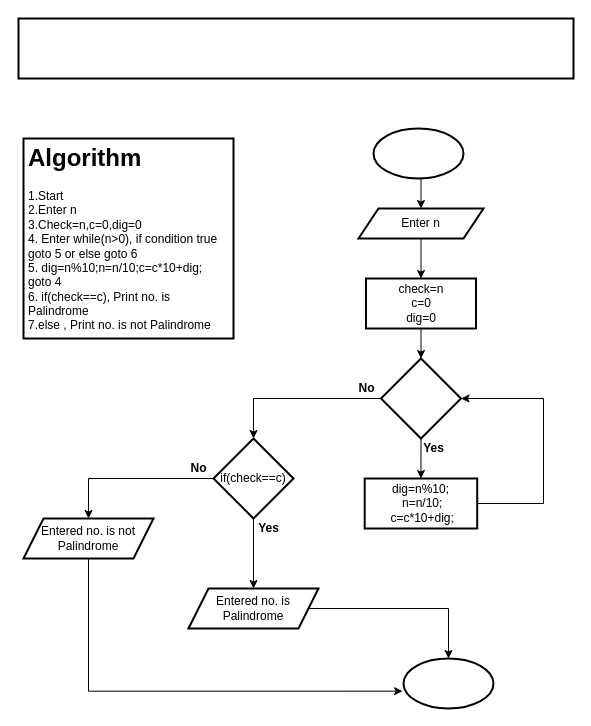
This 591x726 diagram has some shape labels left out. The shapes that lost their labels are listed below. From the top down, each one's centre as x and y in pixels, then its label:
At (x=295, y=48): "Check No. for Palindrome".
At (x=418, y=153): "Start".
At (x=421, y=398): "while(n>0)".
At (x=448, y=683): "End".
